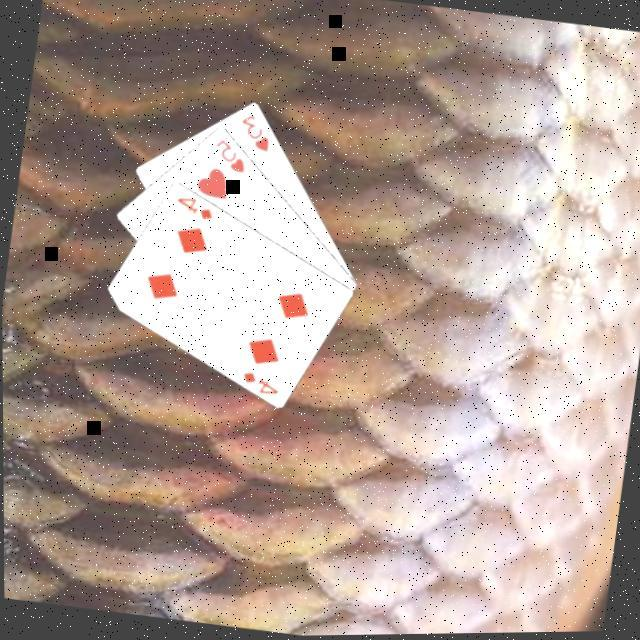3H: (234, 110, 277, 158)
4D: (237, 368, 284, 402), (170, 195, 218, 228)
5H: (209, 136, 252, 180)
